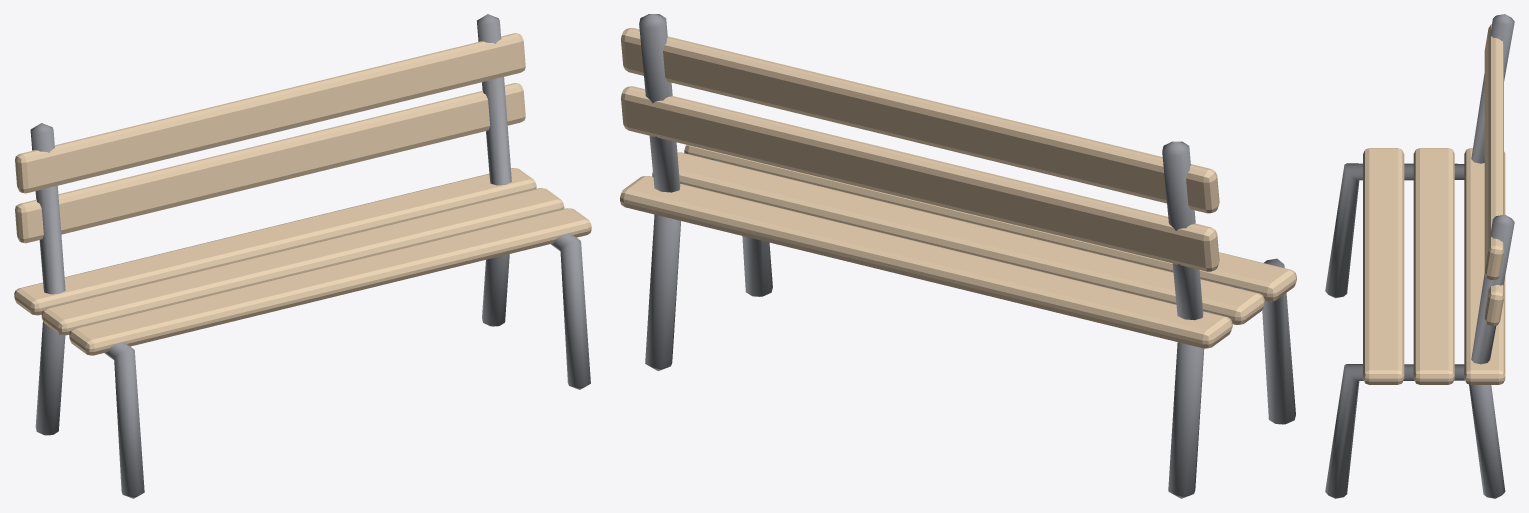
File: bench.glb
3 views of the same model, side by side, from view 1: azimuth 30°, elevation 25°; view 2: azimuth 150°, elevation 25°; view 3: azimuth 270°, elevation 25° (orthographic). The views are drawn at different scales.
Visible parts, largest first — view 1: bench; view 2: bench; view 3: bench.
Boxes of the visible parts, box(x1,y1,x2,y2) form: bench: box(14, 14, 591, 498); bench: box(620, 14, 1296, 498); bench: box(1325, 14, 1514, 498).
Size of the model in its own units: 1.7 by 0.9916 by 0.5994.
